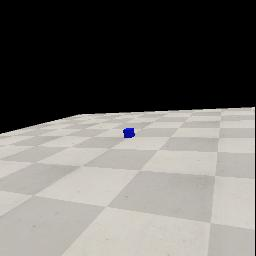box: (123, 128, 135, 138)
